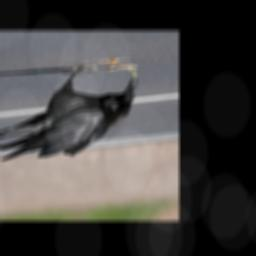Crow: (0, 66, 138, 160)
